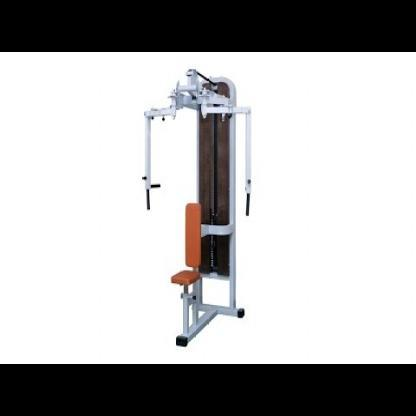chest fly machine: (135, 59, 276, 351)
